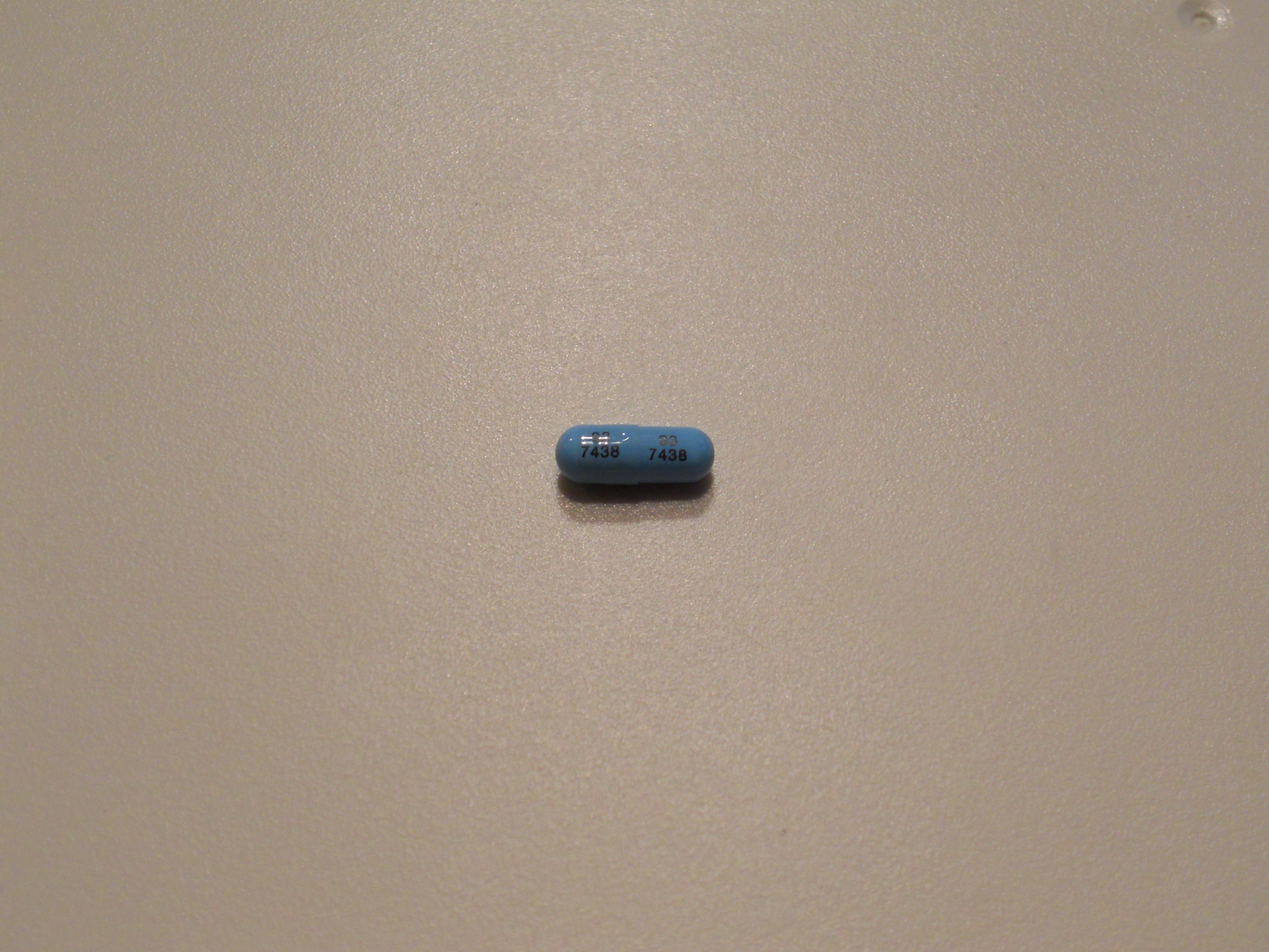Pill: (550, 411, 720, 497)
